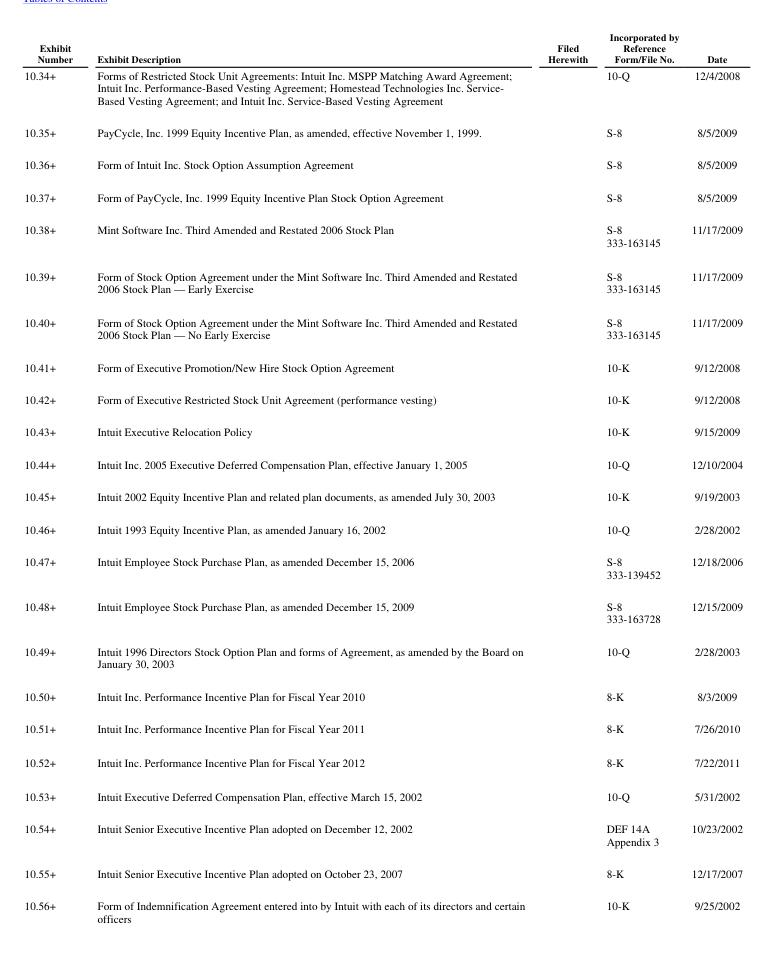table: (23, 29, 742, 924)
table column: (84, 29, 535, 924), (596, 29, 684, 924), (23, 29, 84, 924), (535, 29, 596, 924), (684, 29, 742, 924)
table column header: (23, 29, 742, 66)
table row: (23, 66, 742, 115), (23, 212, 742, 258), (23, 258, 742, 304), (23, 304, 742, 350), (23, 544, 742, 589), (23, 589, 742, 634), (23, 634, 742, 679), (23, 811, 742, 856), (23, 29, 742, 66), (23, 888, 742, 924), (23, 744, 742, 778), (23, 147, 742, 180), (23, 414, 742, 447), (23, 479, 742, 512), (23, 711, 742, 744), (23, 778, 742, 811), (23, 115, 742, 147), (23, 180, 742, 212), (23, 350, 742, 382), (23, 382, 742, 414), (23, 447, 742, 479), (23, 512, 742, 544), (23, 679, 742, 711), (23, 856, 742, 888)
